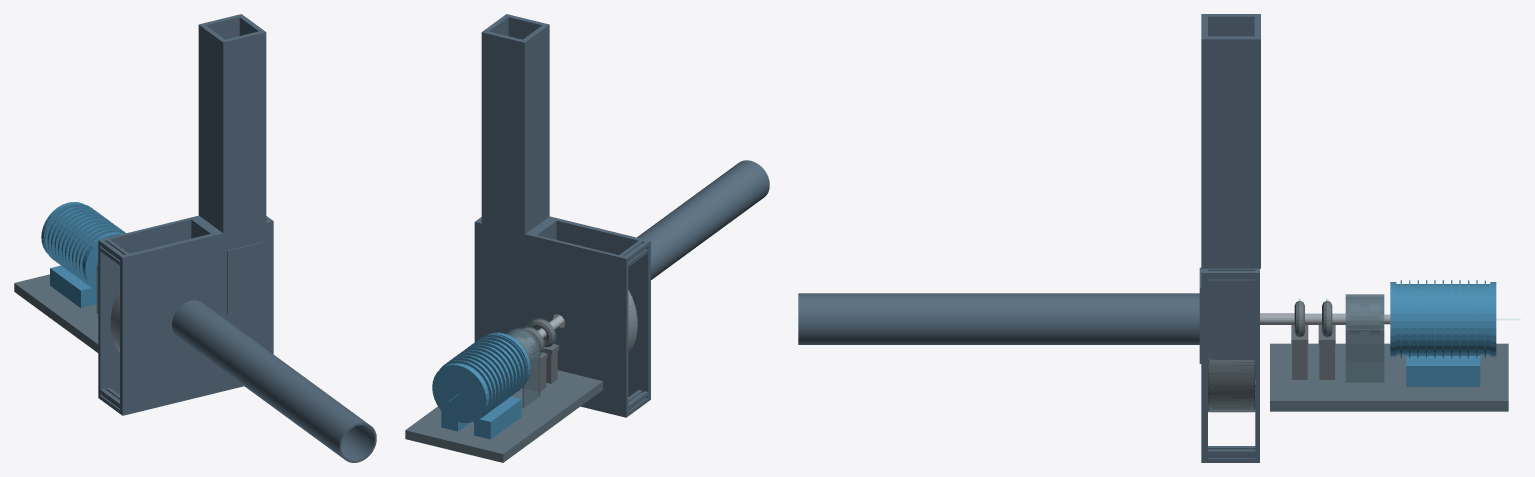
Rendered from induced-draft-fan-lod1.glb.
3 renders of one model, left to right at view 1: azimuth 30°, elevation 25°; view 2: azimuth 150°, elevation 25°; view 3: azimuth 270°, elevation 25°, orthographic. The views are drawn at different scales.
Parts seen in each view (by area): view 1: SHELL, motor, SHELL002, drive_base, SHELL010; view 2: SHELL, motor, drive_base, SHELL002, coupling_guard, bearing_drive_housing, bearing_non_drive_housing, SHELL010; view 3: SHELL, drive_base, motor, SHELL002, coupling_guard, SHELL010, bearing_drive_housing, bearing_non_drive_housing, main_shaft.
Part boxes in pixels (left/top/right/bottom): SHELL: left=98, top=14, right=376, bottom=462; motor: left=41, top=202, right=125, bottom=307; SHELL002: left=101, top=18, right=376, bottom=458; drive_base: left=14, top=274, right=98, bottom=352; SHELL010: left=110, top=288, right=119, bottom=352; SHELL: left=474, top=14, right=769, bottom=417; motor: left=432, top=332, right=530, bottom=439; drive_base: left=405, top=370, right=602, bottom=462; SHELL002: left=476, top=222, right=647, bottom=411; coupling_guard: left=506, top=328, right=540, bottom=408; bearing_drive_housing: left=517, top=327, right=547, bottom=391; bearing_non_drive_housing: left=528, top=319, right=559, bottom=383; SHELL010: left=628, top=290, right=637, bottom=354; SHELL: left=798, top=14, right=1260, bottom=462; drive_base: left=1270, top=343, right=1508, bottom=411; motor: left=1390, top=280, right=1496, bottom=386; SHELL002: left=1201, top=21, right=1260, bottom=447; coupling_guard: left=1345, top=294, right=1384, bottom=382; SHELL010: left=1208, top=360, right=1255, bottom=412; bearing_drive_housing: left=1318, top=300, right=1335, bottom=379; bearing_non_drive_housing: left=1291, top=300, right=1308, bottom=379; main_shaft: left=1260, top=313, right=1348, bottom=324.
Bounding box in the file's own units: 650 × 1435 × 2240.
